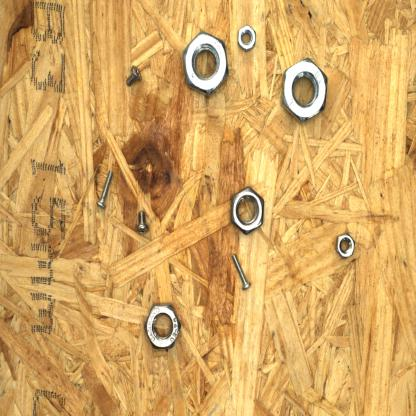screw: (230, 249, 257, 296), (94, 167, 116, 210), (132, 208, 154, 239), (124, 61, 146, 90)
